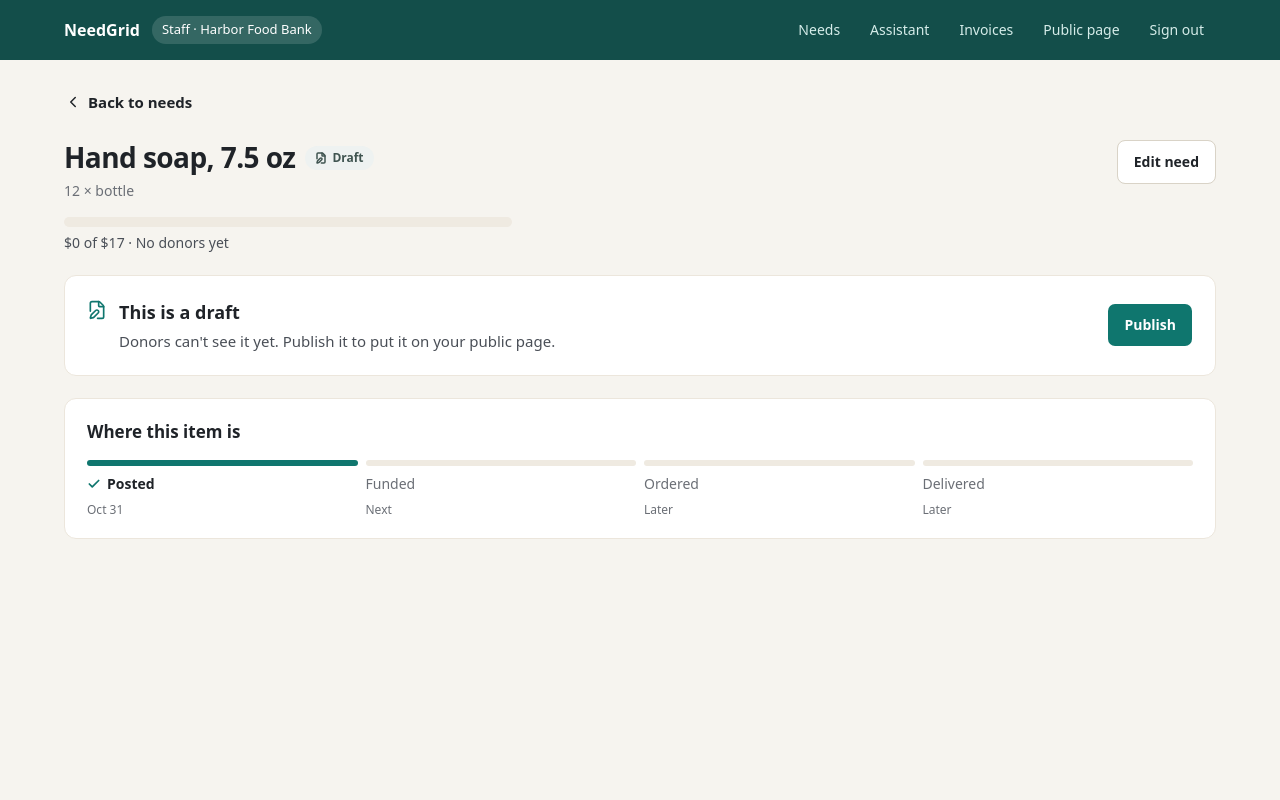
Test: Staff need page /staff/needs/:id by status › draft: not public, and Publish uses the same PATCH as the console
Expected: the heading "Hand soap, 7.5 oz" is shown, left=64, top=140, right=295, bottom=175
Expected: the link "View public page" is not shown
Click the button "Publish" at (1150, 325), box left=1107, top=303, right=1193, bottom=347
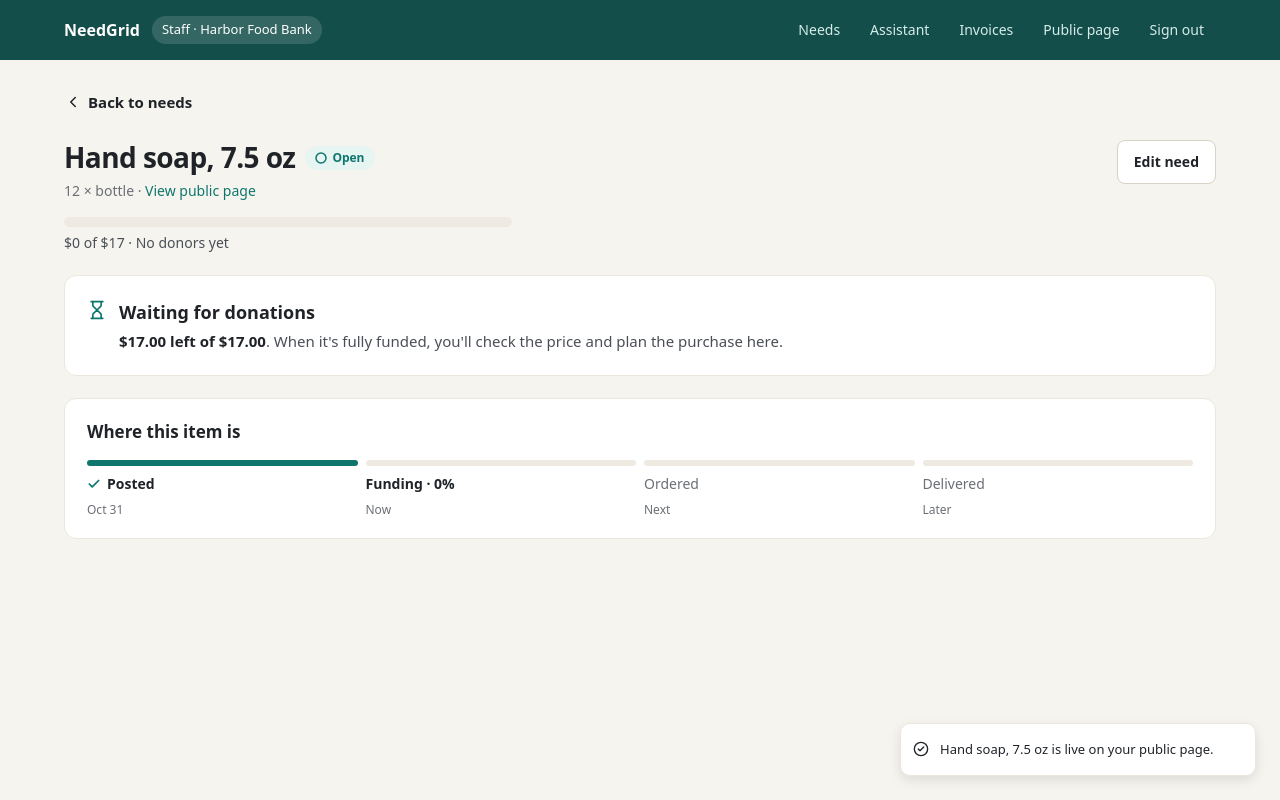
Expected: the text "Hand soap, 7.5 oz is live on your public page." is shown, left=940, top=740, right=1214, bottom=759
Expected: the element "Waiting for donations" is shown, left=64, top=275, right=1216, bottom=376
Expected: the link "View public page" is shown, left=145, top=181, right=256, bottom=200
